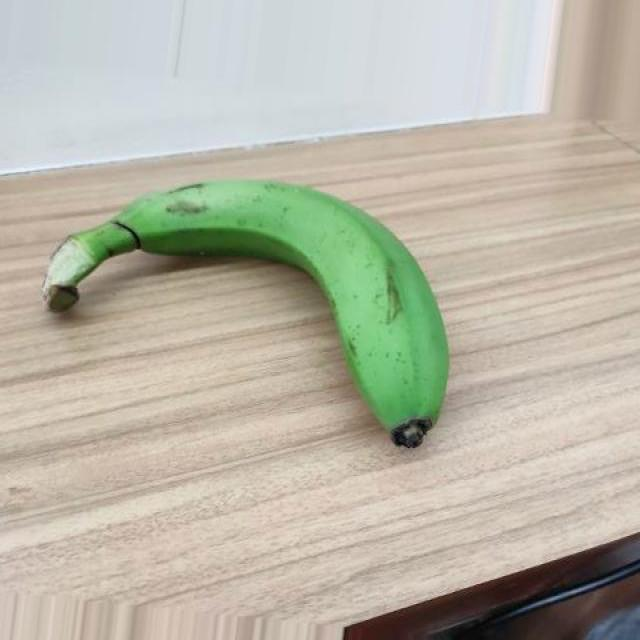Unripe: (41, 175, 449, 449)
